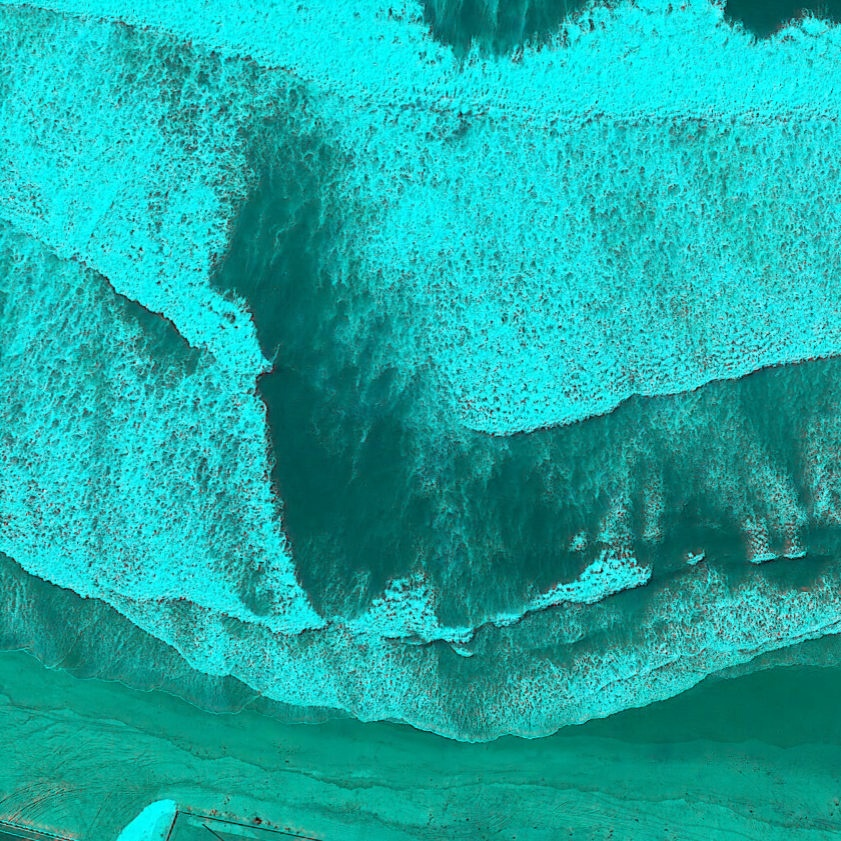rip_current: (145, 63, 512, 592)
